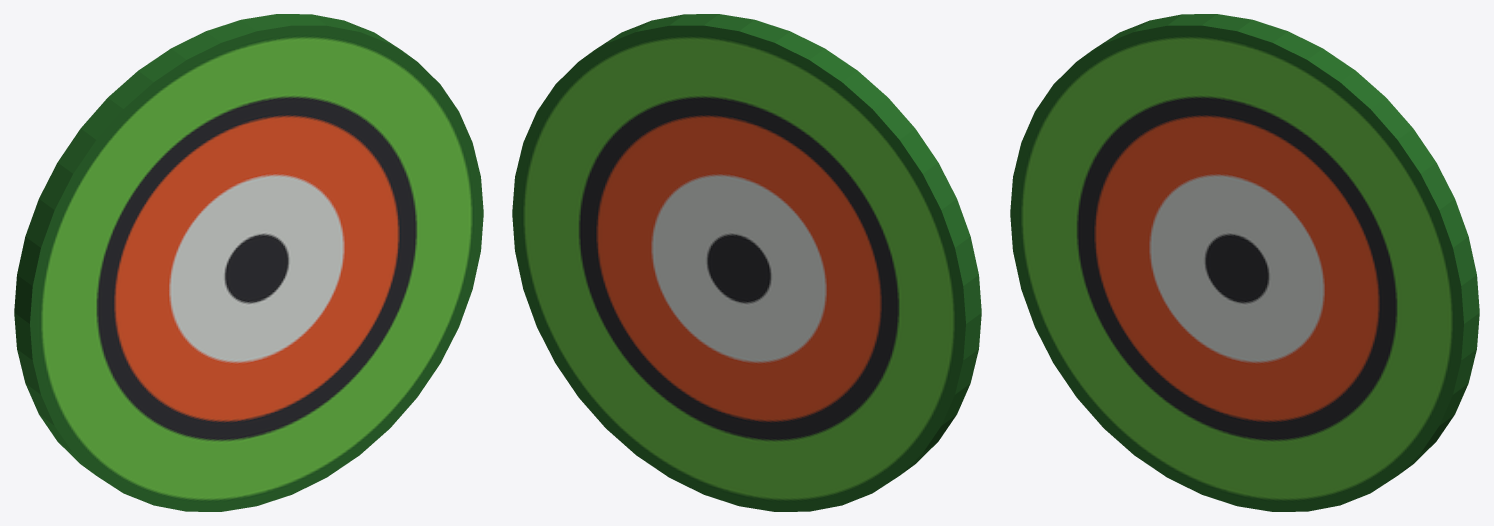
File: bullseye.obj
The picture shows the model from 3 angles, left to right: view 1: azimuth 30°, elevation 25°; view 2: azimuth 150°, elevation 25°; view 3: azimuth 330°, elevation 25°; orthographic projection.
Visible parts, largest first — view 1: bullseye; view 2: bullseye; view 3: bullseye.
Boxes of the visible parts, x1,y1,x2,y2 form: bullseye: [14, 14, 483, 511]; bullseye: [512, 14, 981, 511]; bullseye: [1010, 14, 1479, 511].
Size of the model in its own units: 2 by 2 by 0.12.
Materials: 1 (1 with a texture image).
